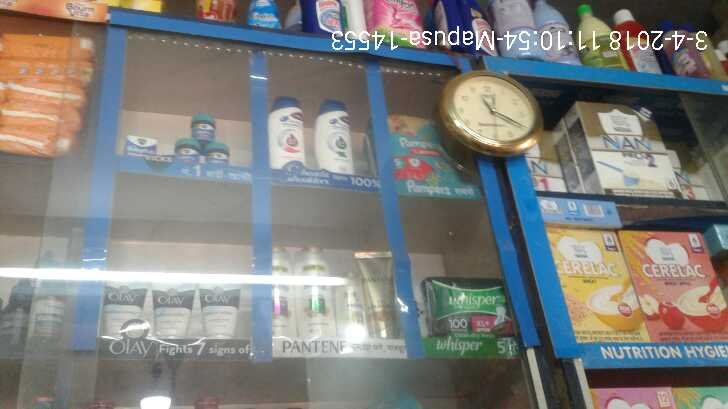vicks: (175, 110, 230, 161), (125, 133, 158, 158)
